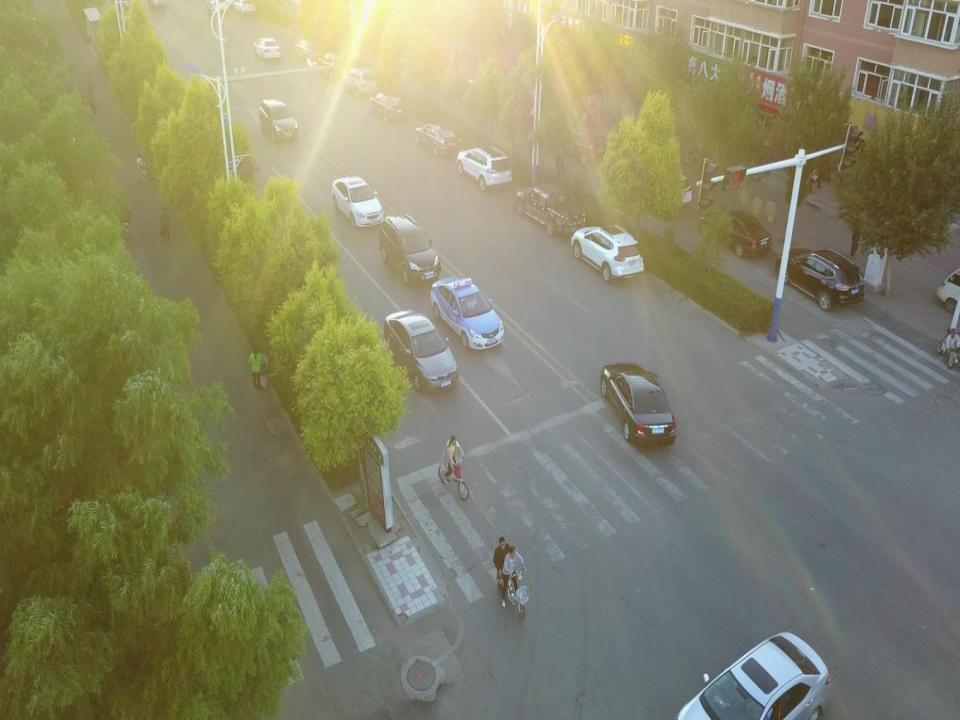car: (670, 631, 833, 720), (383, 306, 459, 397), (600, 362, 678, 442), (775, 243, 867, 310), (429, 273, 502, 352), (378, 213, 444, 290), (609, 151, 693, 209), (572, 224, 644, 285), (698, 202, 774, 254), (546, 116, 618, 161), (329, 177, 385, 226), (455, 147, 514, 190), (255, 95, 298, 142), (413, 118, 460, 154), (366, 92, 408, 122), (339, 64, 377, 96), (315, 47, 351, 79), (292, 31, 328, 63), (252, 30, 284, 63), (234, 1, 254, 14), (206, 0, 226, 13)
